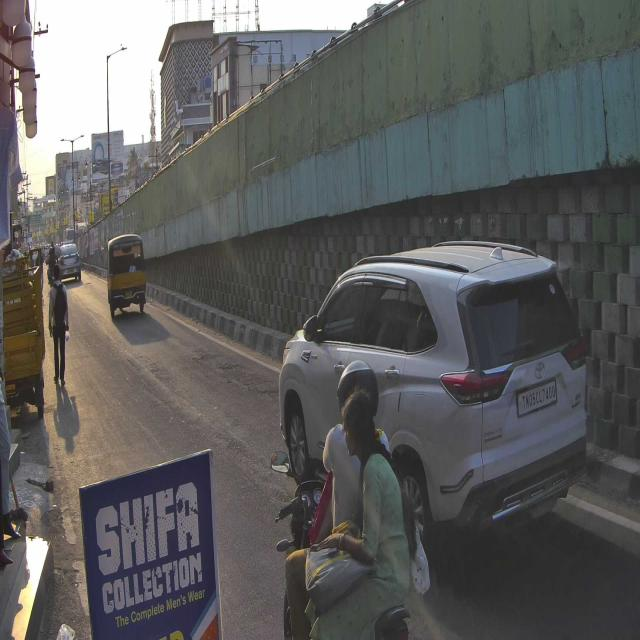double_rider: (269, 358, 422, 640)
